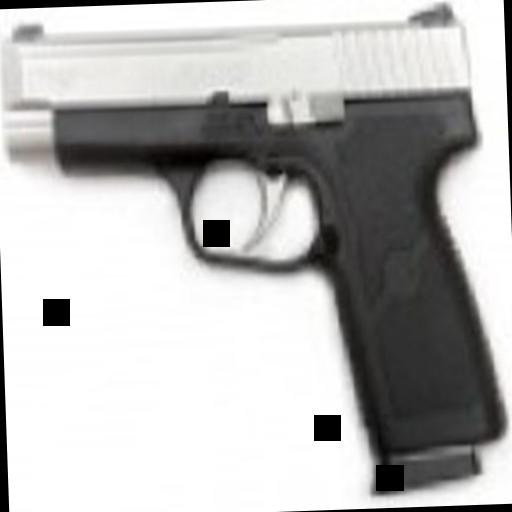Handgun: (0, 8, 509, 502)
